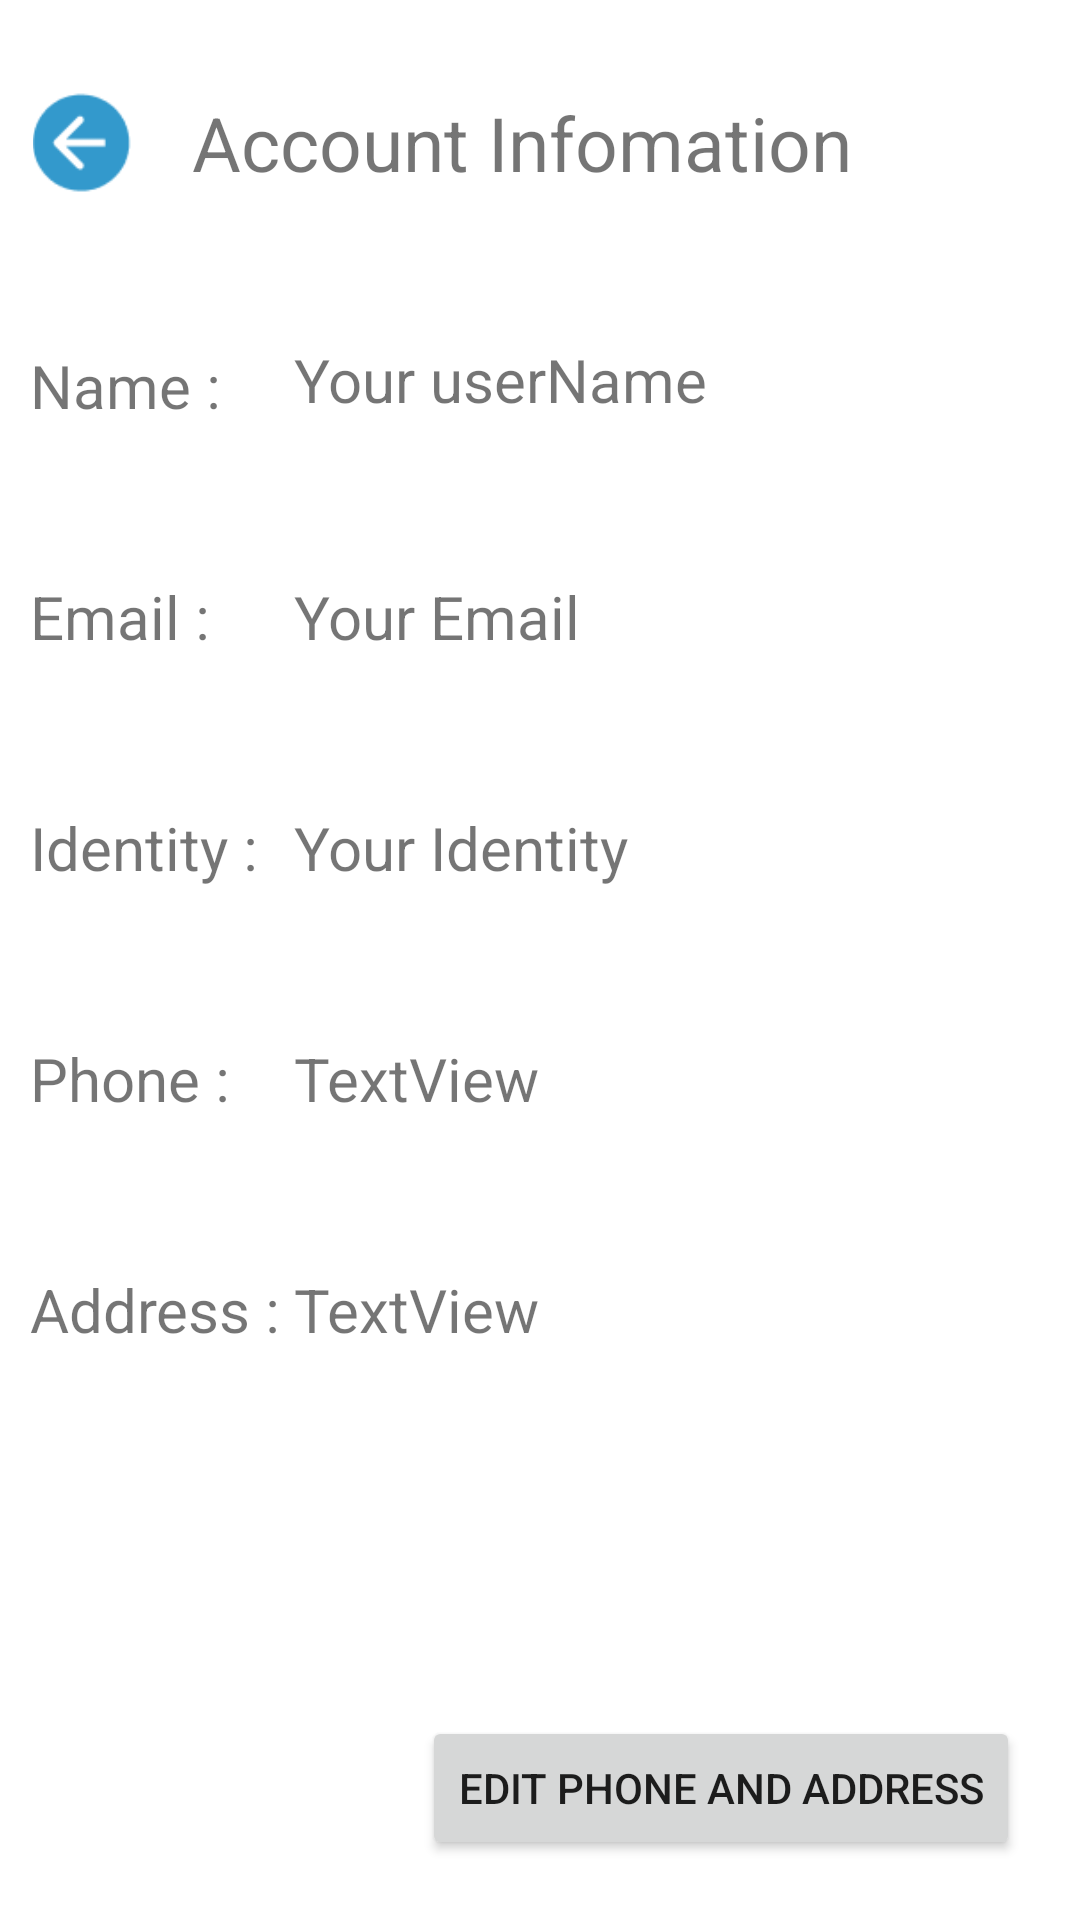

Screen size 1080w x 1920h. Icon name, then its box in pixels as detection(x1, y1, x2, y2):
previous: detection(33, 93, 131, 192)
